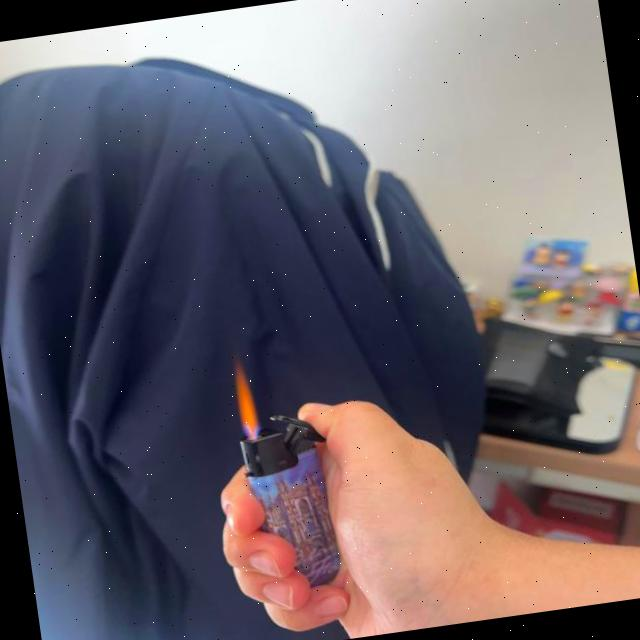fire: (230, 366, 266, 441)
